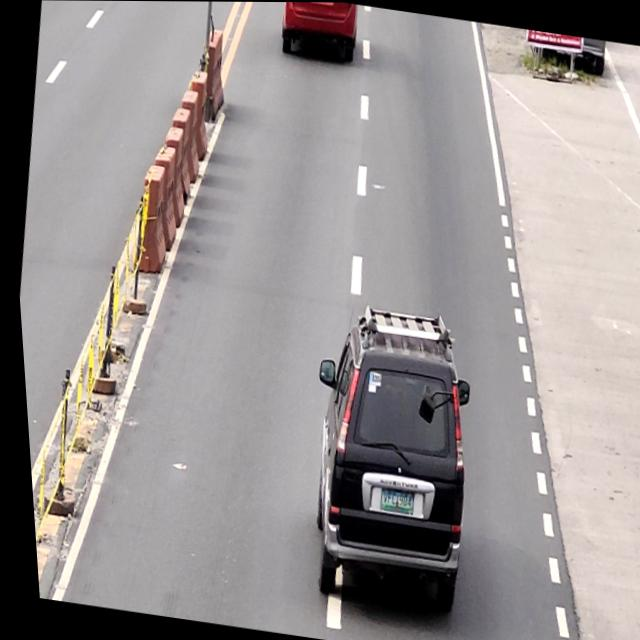Car: (282, 299, 488, 618), (276, 2, 362, 65)
License-Plate: (370, 486, 410, 516)
